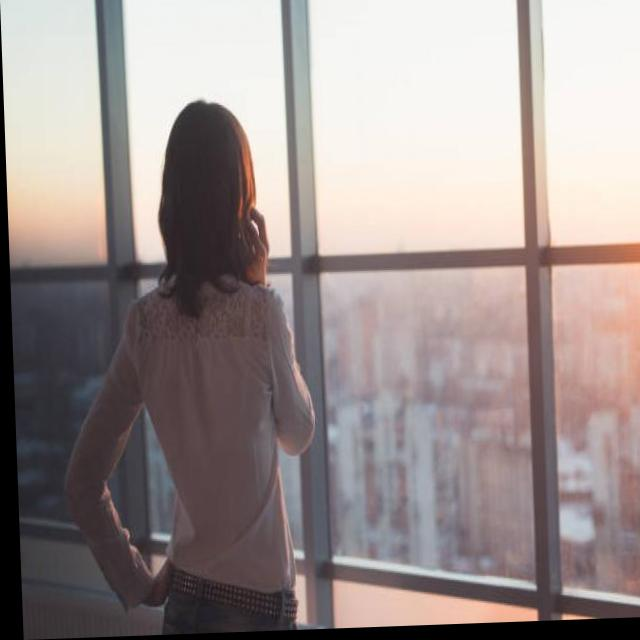no helmet: (134, 76, 289, 317)
